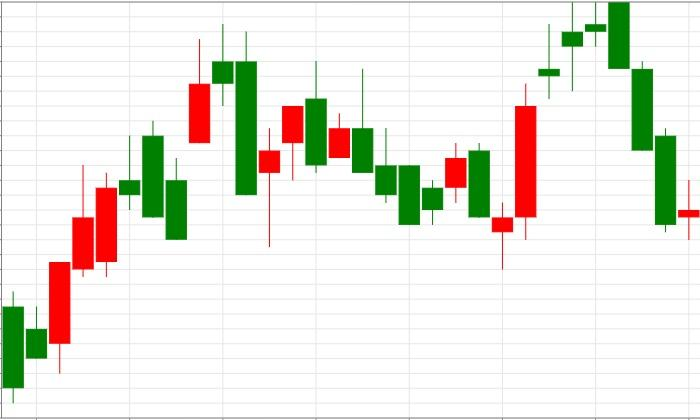morning_star_rise: (306, 60, 536, 269)
three_black_crows_fall: (491, 2, 676, 269)
